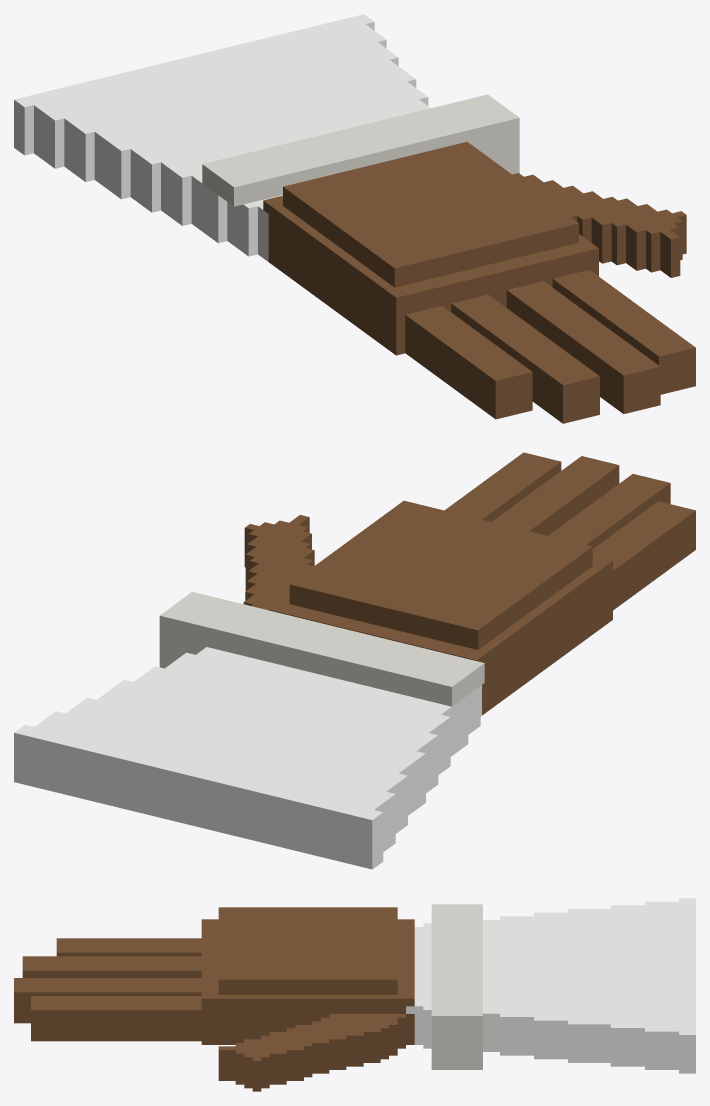
The model's file is gauntlet_fencing.glb.
3 renders of one model, top to bottom at view 1: azimuth 30°, elevation 25°; view 2: azimuth 150°, elevation 25°; view 3: azimuth 270°, elevation 25°, orthographic. The views are drawn at different scales.
Visible parts, largest first — view 1: gauntlet_fencing:compound; view 2: gauntlet_fencing:compound; view 3: gauntlet_fencing:compound.
Part boxes in pixels (left/top/right/bottom): gauntlet_fencing:compound: left=14, top=14, right=695, bottom=423; gauntlet_fencing:compound: left=14, top=452, right=695, bottom=869; gauntlet_fencing:compound: left=14, top=898, right=695, bottom=1091.
Size of the model in its own units: 0.172 by 0.032 by 0.32.
